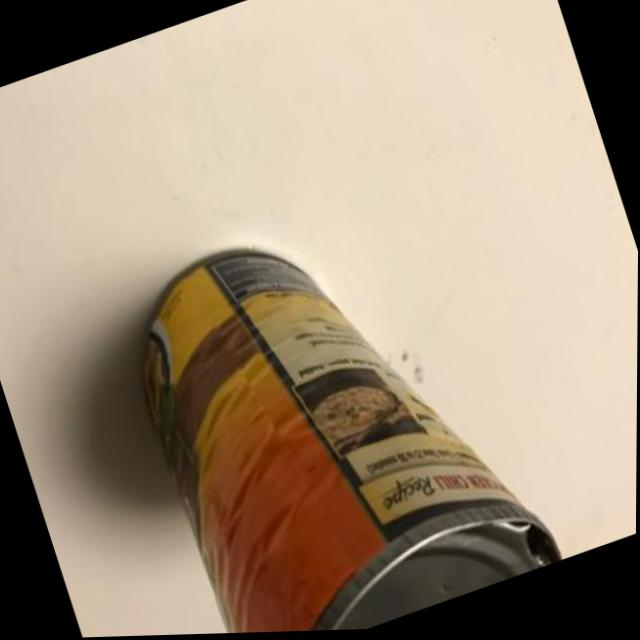metal: (62, 150, 592, 638)
